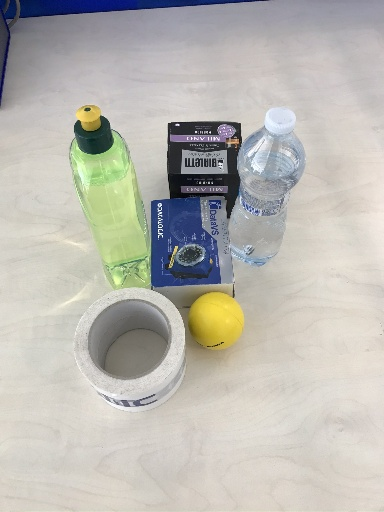Acqua: (236, 108, 306, 270)
Box: (149, 197, 232, 293)
Caffe: (162, 118, 245, 196)
Nastro: (69, 287, 189, 414)
Palla: (189, 288, 244, 355)
Sapone: (66, 104, 156, 290)
